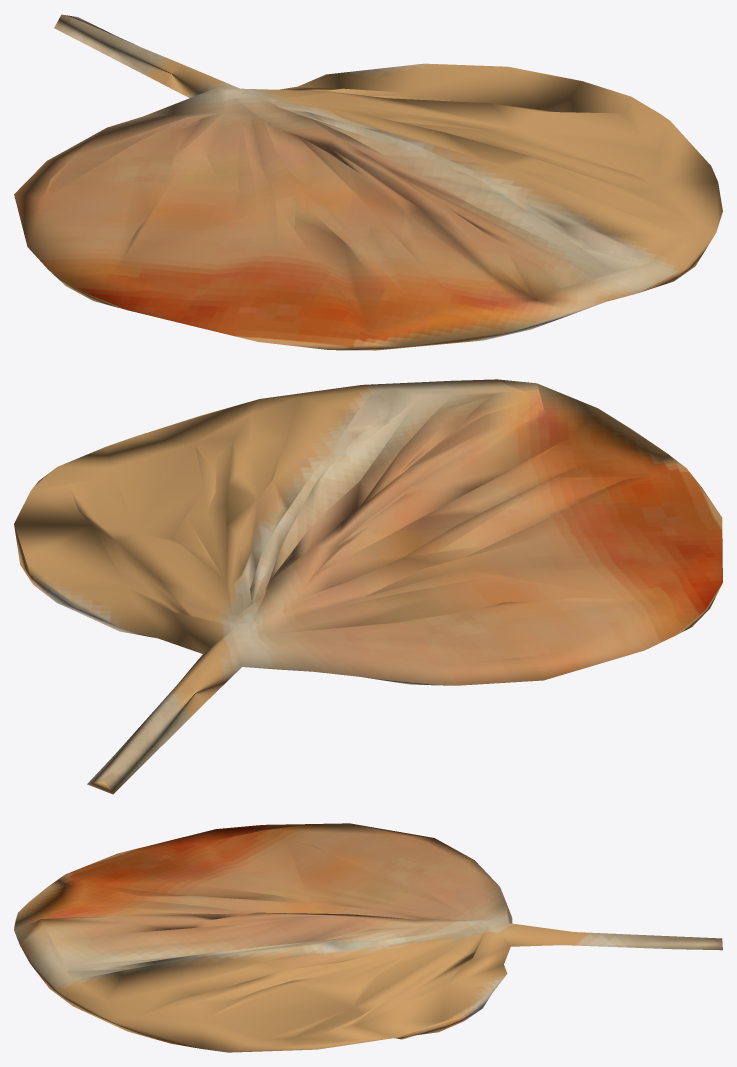
The model's file is ref_fan.fbx.
3 renders of one model, top to bottom at view 1: azimuth 30°, elevation 25°; view 2: azimuth 150°, elevation 25°; view 3: azimuth 270°, elevation 25°, orthographic. The views are drawn at different scales.
Parts seen in each view (by area): view 1: ref_fan; view 2: ref_fan; view 3: ref_fan.
Boxes of the visible parts, box(x1,y1,x2,y2) form: ref_fan: box(14, 14, 722, 350); ref_fan: box(14, 379, 722, 794); ref_fan: box(14, 823, 722, 1052).
Size of the model in its own units: 76.06 by 7.11 by 100.
